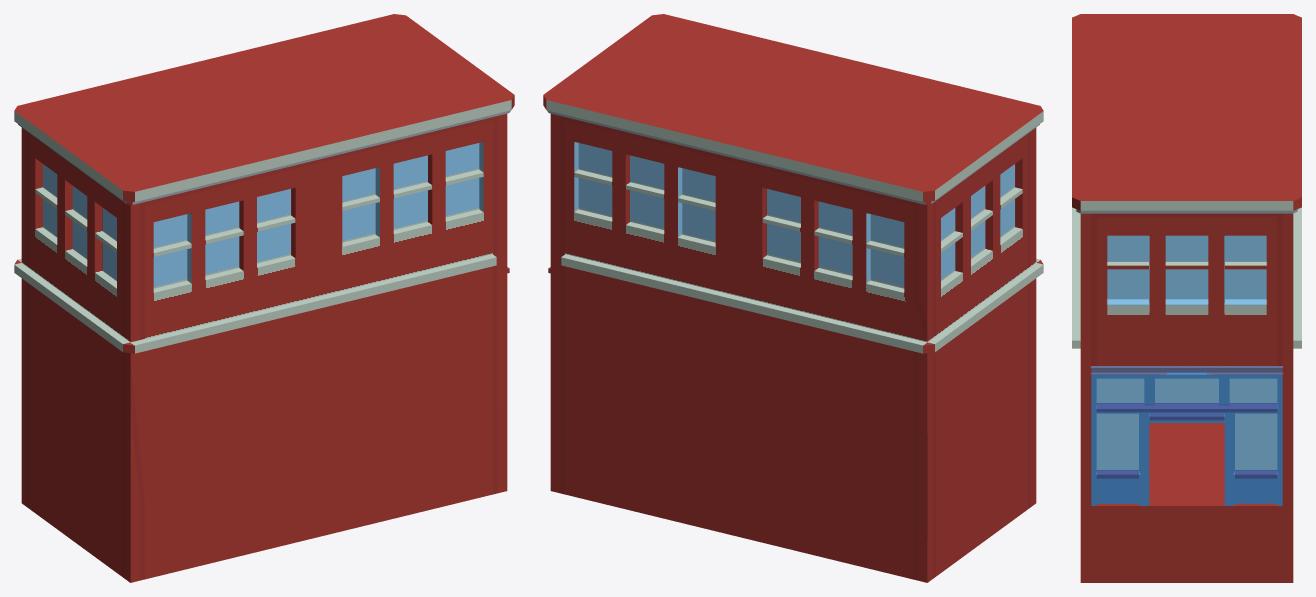
The model's file is building5.glb.
3 views of the same model, side by side, from view 1: azimuth 30°, elevation 25°; view 2: azimuth 150°, elevation 25°; view 3: azimuth 270°, elevation 25° (orthographic). The views are drawn at different scales.
Visible parts, largest first — view 1: 3; view 2: 3; view 3: 3.
Boxes of the visible parts, left/top/right/bottom form: 3: left=14, top=14, right=514, bottom=582; 3: left=543, top=14, right=1043, bottom=582; 3: left=1072, top=14, right=1301, bottom=582.
Size of the model in its own units: 10.4 by 10 by 5.4.
Materials: 3 (3 with a texture image).
